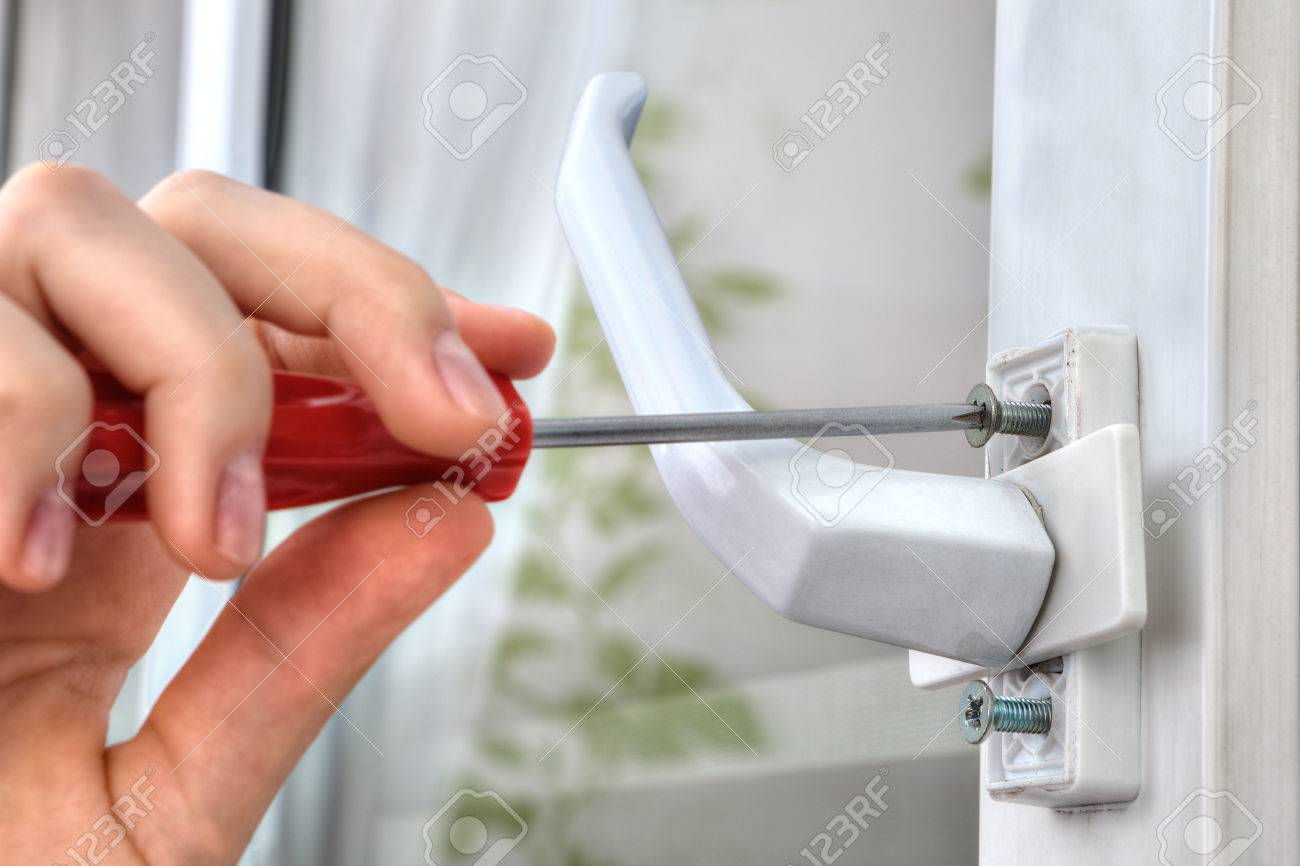screwdriver: (80, 373, 989, 511)
